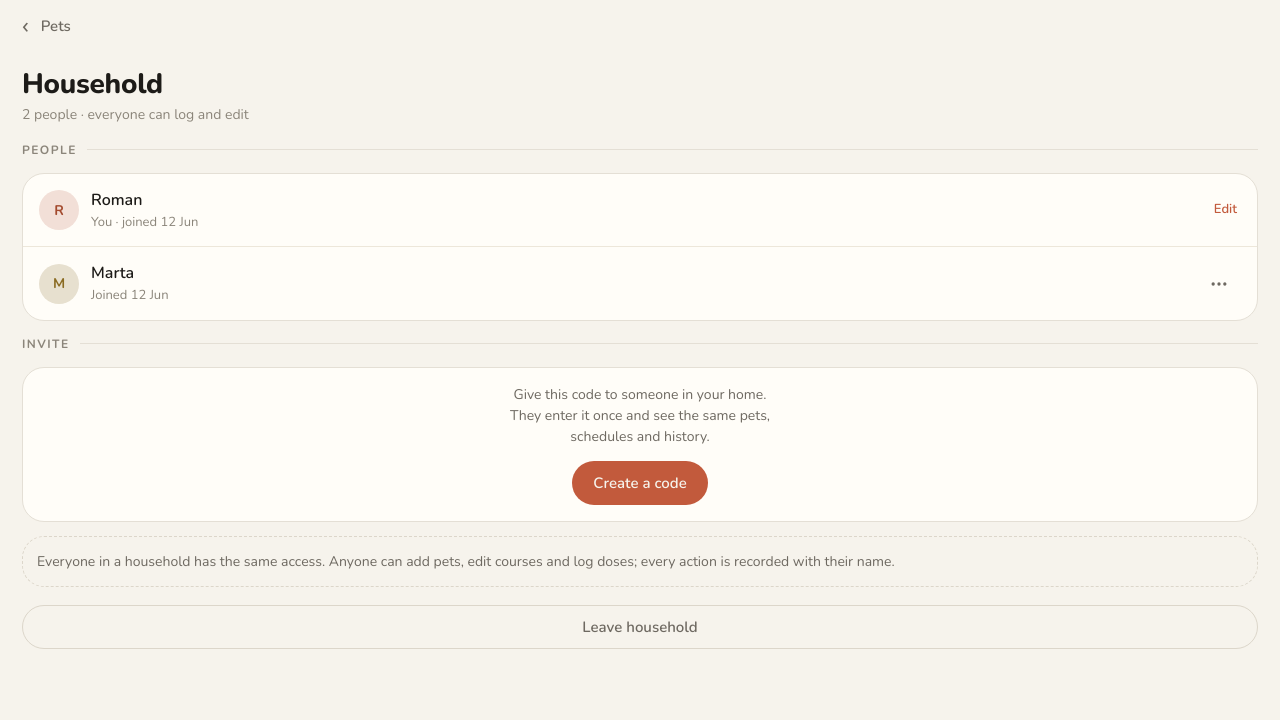
HouseholdPage › keeps the portalled member overflow menu inside a .ds-root token scope, so it is not painted with unresolved tokens
Click the button named "More options for Marta".
click(1219, 284)  # box [1197,262,1241,306]
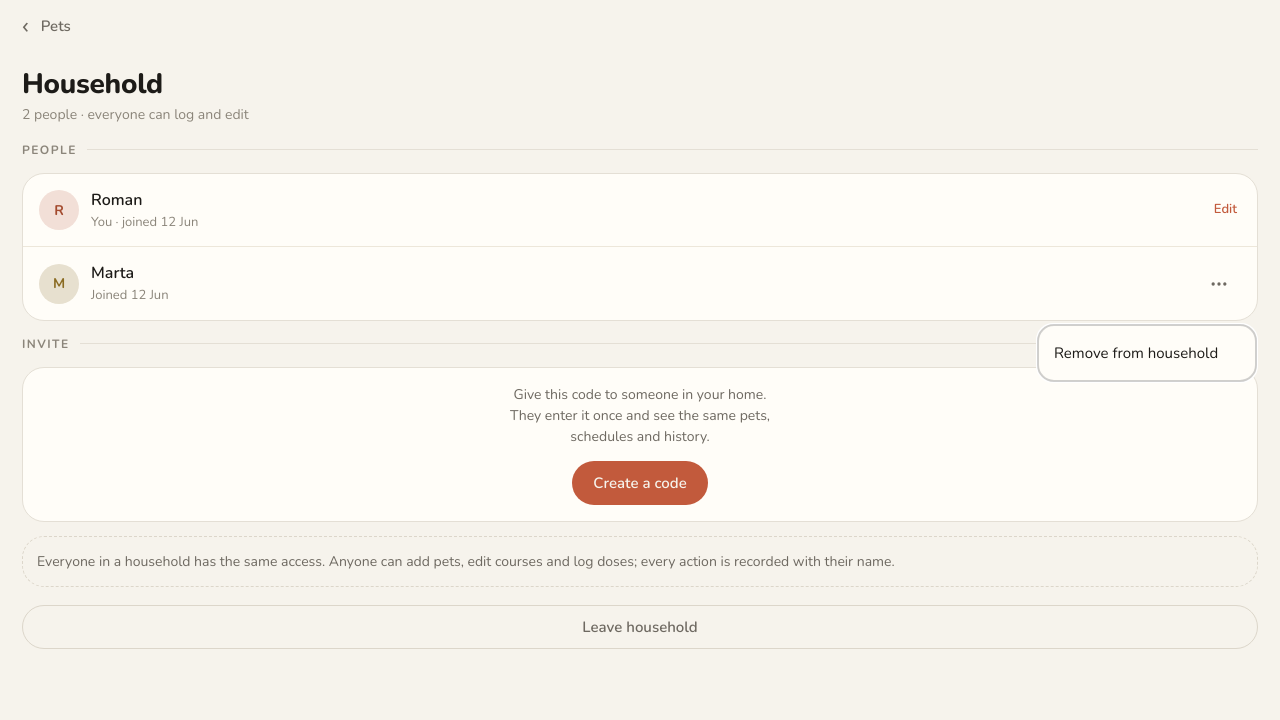
Expected: the menu is shown, [1037,324,1257,382]
